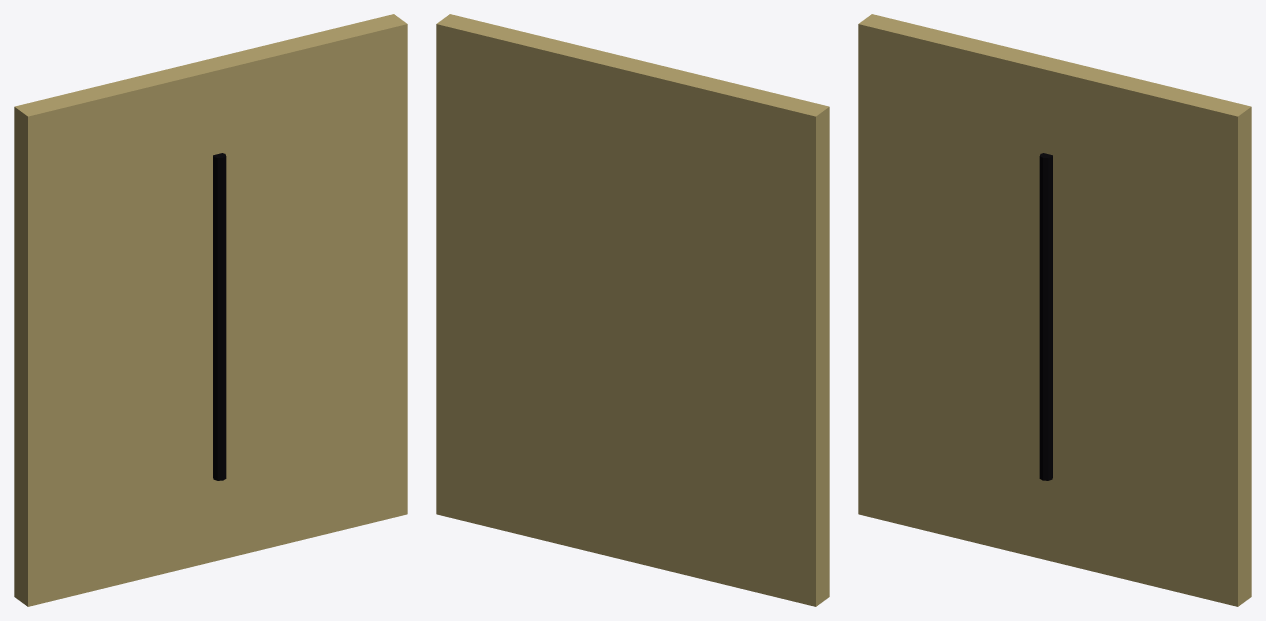
File: CarRoof.obj
The picture shows the model from 3 angles, left to right: view 1: azimuth 30°, elevation 25°; view 2: azimuth 150°, elevation 25°; view 3: azimuth 330°, elevation 25°; orthographic projection.
Parts seen in each view (by area): view 1: CarRoof; view 2: CarRoof; view 3: CarRoof.
Boxes of the visible parts, <box> form: CarRoof: <box>14,14,407,606</box>; CarRoof: <box>436,14,829,606</box>; CarRoof: <box>858,14,1251,606</box>.
Bounding box in the file's own units: 128 × 158 × 11.
